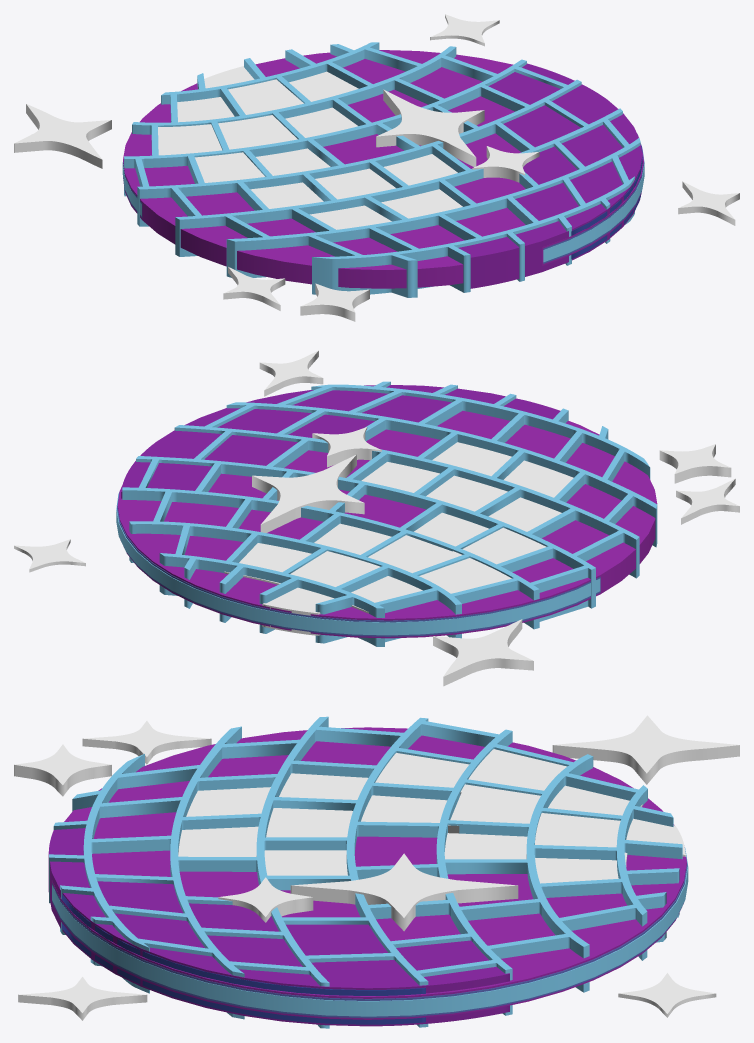
Rendered from emoji_u1faa9.glb.
The picture shows the model from 3 angles, top to bottom: view 1: azimuth 30°, elevation 25°; view 2: azimuth 150°, elevation 25°; view 3: azimuth 270°, elevation 25°; orthographic projection. The views are drawn at different scales.
Visible parts, largest first — view 1: emoji_u1faa9; view 2: emoji_u1faa9; view 3: emoji_u1faa9.
Part boxes in pixels (left/top/right/bottom): emoji_u1faa9: left=14, top=14, right=739, bottom=321; emoji_u1faa9: left=14, top=350, right=739, bottom=686; emoji_u1faa9: left=14, top=715, right=739, bottom=1028.
Size of the model in its own units: 0.0333 by 0.0026 by 0.0345.
